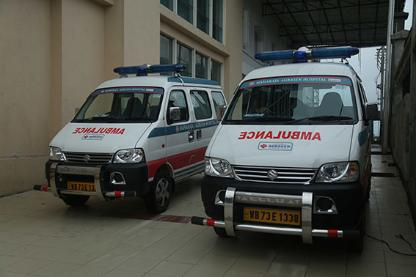priority: (203, 42, 375, 248), (43, 62, 227, 214)
